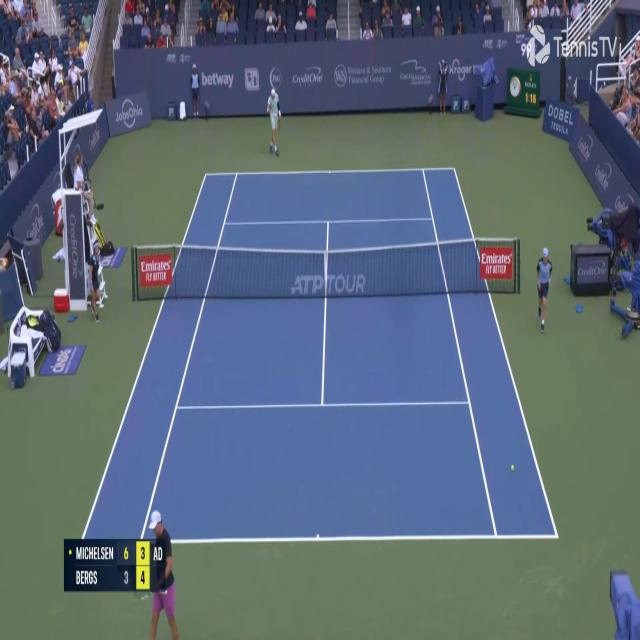tennis-player: (137, 498, 183, 640), (264, 86, 282, 158)
